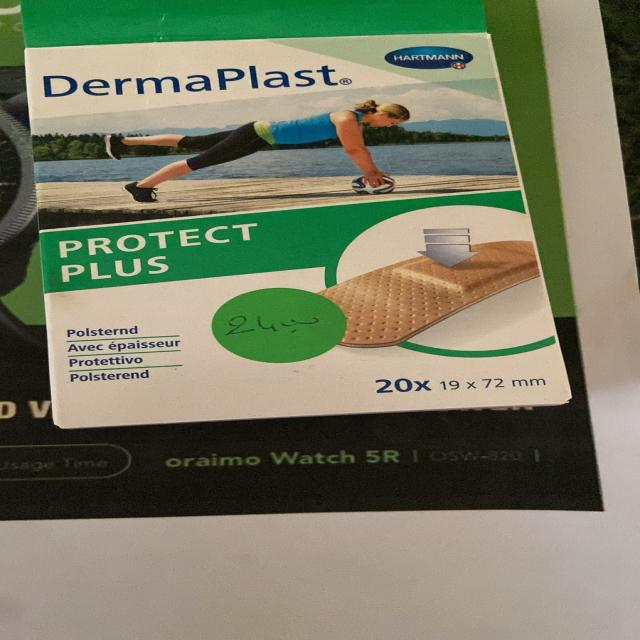Oraimo Watch 5R OSW-820: (159, 443, 550, 477)
